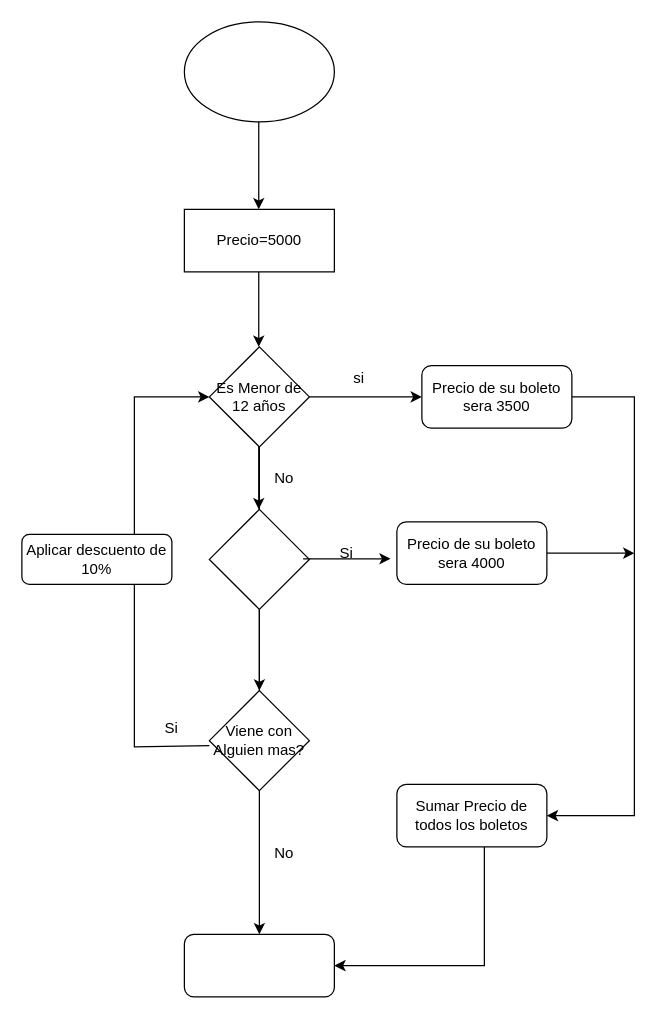
Some shapes in this 666 by 1019 pixel diagram are drawn without their labels. The shapes that lost their labels are listed below. From the top down, each one's box as (x1, y1, x2, y2) in pixels, then its label:
(183, 21, 334, 122): Entrada circo
(208, 508, 309, 609): Es mayor de 65 anos
(183, 933, 334, 997): Toca Pagar
